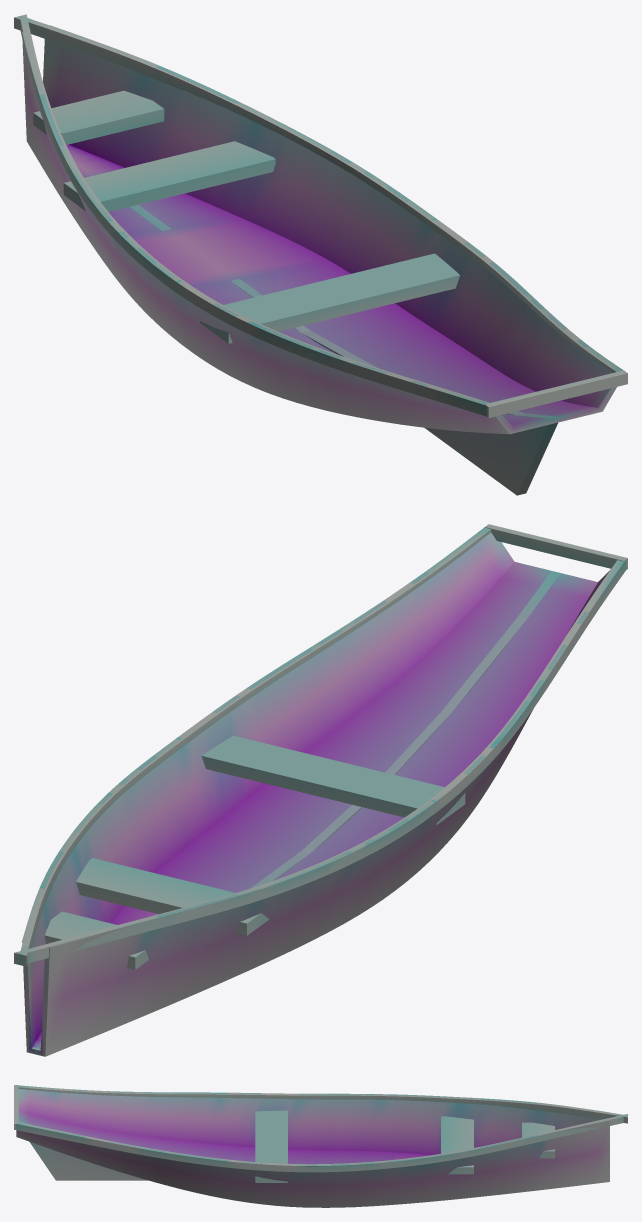
The picture shows the model from 3 angles, top to bottom: view 1: azimuth 30°, elevation 25°; view 2: azimuth 150°, elevation 25°; view 3: azimuth 270°, elevation 25°; orthographic projection. The views are drawn at different scales.
Parts seen in each view (by area): view 1: hull, seat, rail, rail.001, seat.001, keel, seat.002, stern_rail; view 2: hull, rail, seat, rail.001, seat.001, keel, stern_rail, seat.002; view 3: hull, rail.001, rail, seat, keel, seat.001, seat.002, stern_rail.
Part boxes in pixels (left/top/right/bottom): hull: left=22, top=25, right=616, bottom=434; seat: left=200, top=253, right=459, bottom=343; rail: left=20, top=14, right=489, bottom=416; rail.001: left=14, top=16, right=623, bottom=372; seat.001: left=63, top=141, right=275, bottom=211; keel: left=129, top=205, right=559, bottom=495; seat.002: left=33, top=90, right=164, bottom=144; stern_rail: left=484, top=370, right=627, bottom=417; hull: left=22, top=532, right=610, bottom=1056; rail: left=14, top=559, right=625, bottom=965; seat: left=201, top=735, right=465, bottom=825; rail.001: left=19, top=527, right=491, bottom=966; seat.001: left=76, top=858, right=269, bottom=935; keel: left=31, top=571, right=560, bottom=1054; stern_rail: left=484, top=524, right=627, bottom=569; seat.002: left=44, top=911, right=148, bottom=969; hull: left=16, top=1089, right=609, bottom=1207; rail.001: left=16, top=1114, right=627, bottom=1172; rail: left=18, top=1085, right=627, bottom=1123; seat: left=255, top=1110, right=287, bottom=1182; keel: left=18, top=1121, right=148, bottom=1180; seat.001: left=441, top=1116, right=473, bottom=1174; seat.002: left=522, top=1122, right=554, bottom=1158; stern_rail: left=14, top=1085, right=18, bottom=1129.
Size of the model in its own units: 1.12 by 0.5434 by 4.02.
